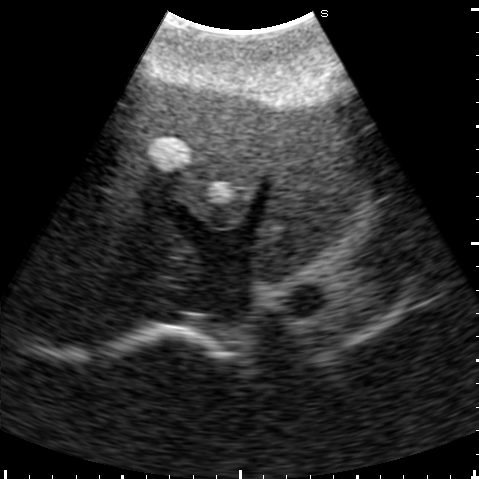S2: (251, 108, 371, 283)
S4: (118, 70, 276, 231)
S7: (41, 235, 147, 342)
S8: (76, 160, 196, 284)
Tumor: (148, 136, 191, 171), (206, 181, 233, 202)
